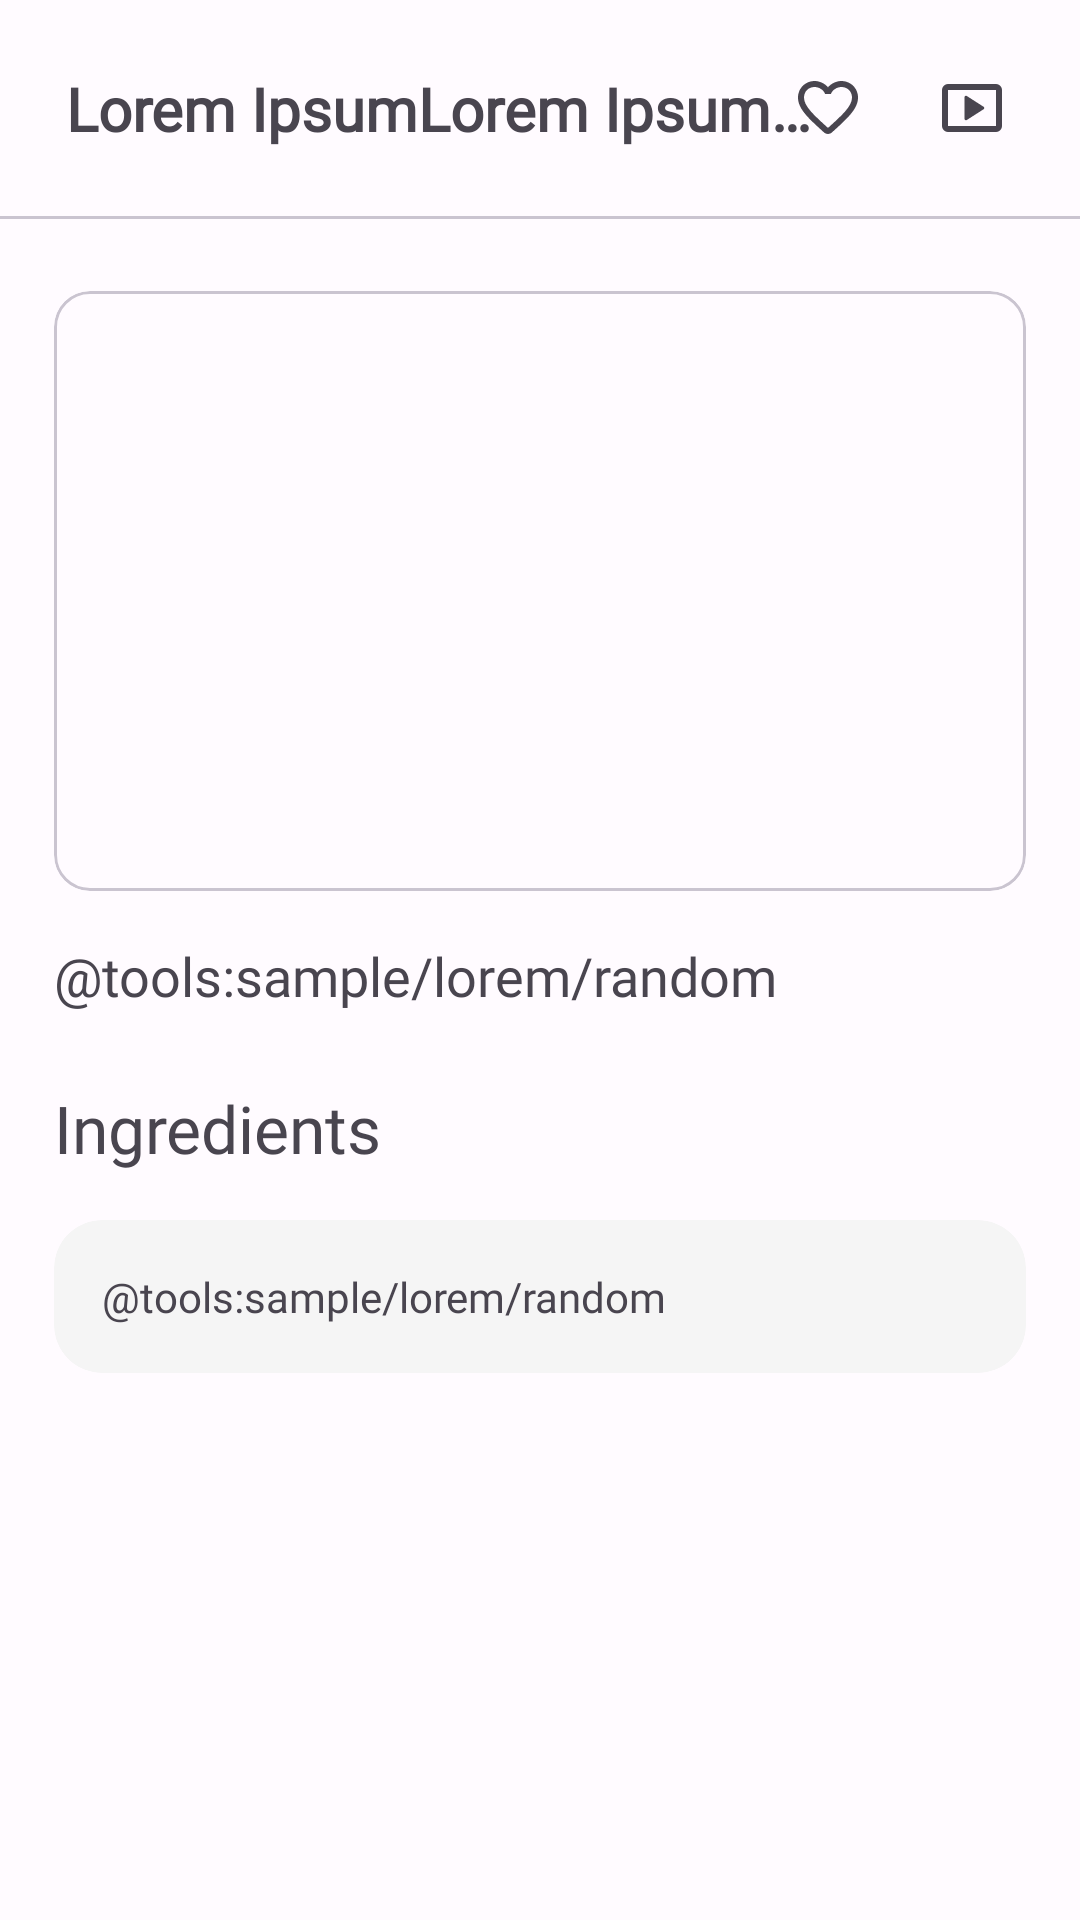

Icon bounding boxes for this 1080 × 1920 phone screenshot, format (x1, y1, x2, y2):
play: (942, 84, 1002, 132)
